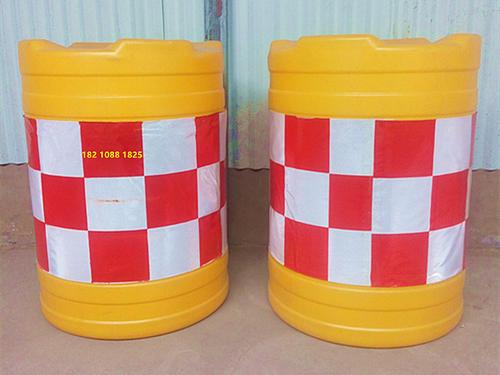sign: (259, 16, 475, 350), (12, 28, 237, 343)
